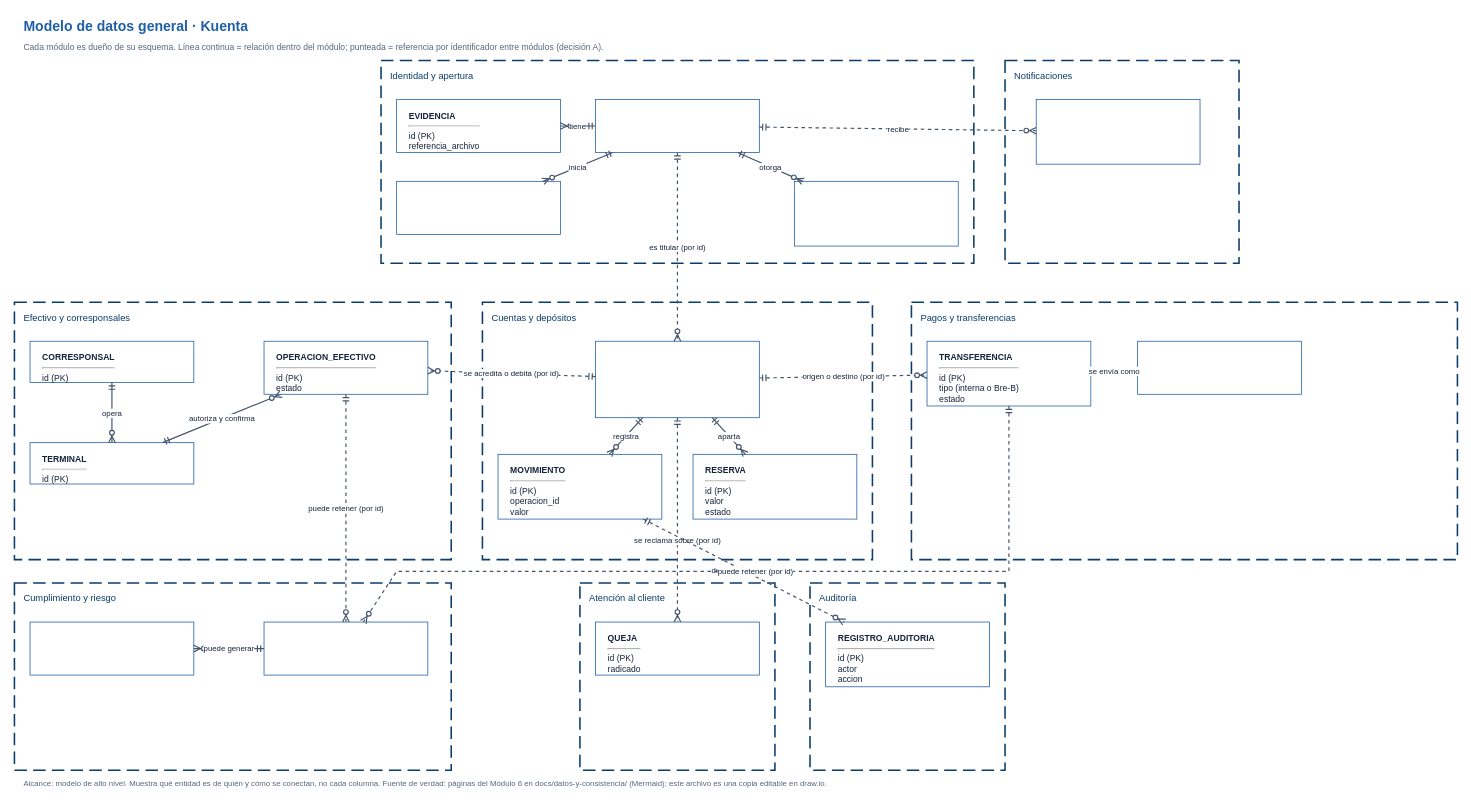
The diagram is 1471 pixels wide and 804 high, and some of its shapes have lost their labels. The shapes that lost their labels are listed below. From the top down, each one's centre as x and y in pixels, then its label:
At (677,125): "CLIENTE id (PK) estado_verificacion".
At (1117,131): "NOTIFICACION id (PK) canal estado_entrega".
At (478,207): "SOLICITUD_APERTURA id (PK) estado".
At (876,213): "AUTORIZACION_DATOS id (PK) fecha version_texto".
At (677,379): "DEPOSITO id (PK) cliente_id estado saldo".
At (1219,367): "ORDEN_BREB id (PK) respuesta".
At (111,648): "REPORTE_AUTORIDAD id (PK) autoridad".
At (345,648): "CASO_REVISION id (PK) decision".
